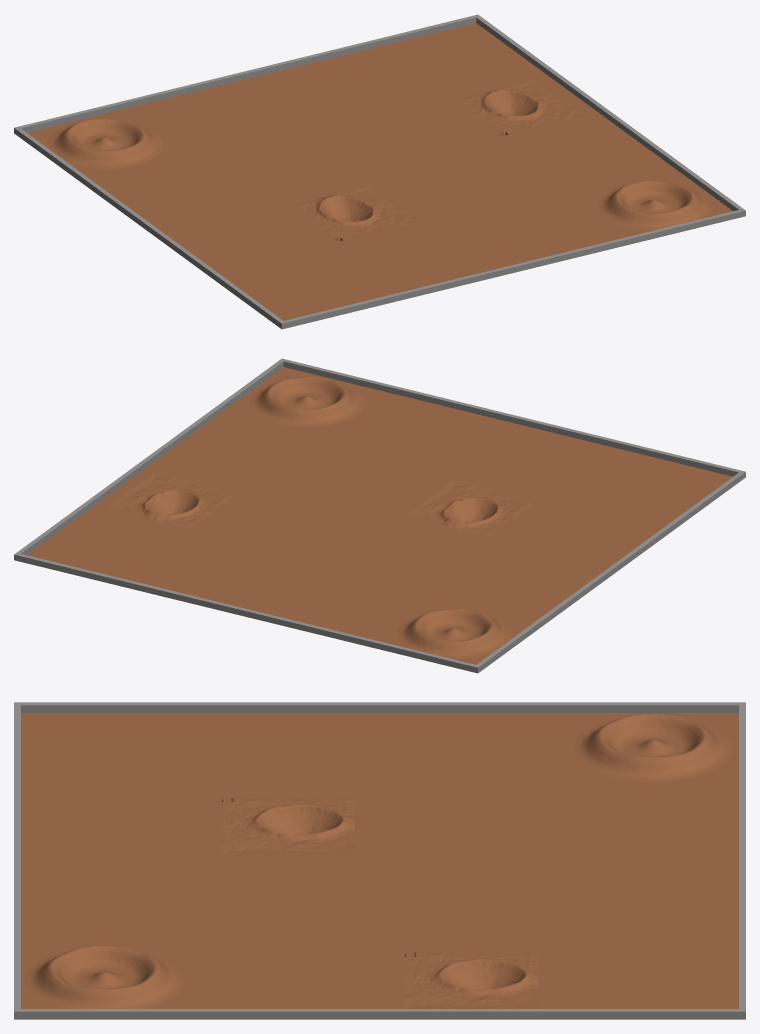
Rendered from mars_terrain.glb.
The picture shows the model from 3 angles, top to bottom: view 1: azimuth 30°, elevation 25°; view 2: azimuth 150°, elevation 25°; view 3: azimuth 270°, elevation 25°; orthographic projection. The views are drawn at different scales.
Visible parts, largest first — view 1: mars_terrain; view 2: mars_terrain; view 3: mars_terrain.
Part boxes in pixels (x1=…): mars_terrain: x1=14, y1=14, x2=745, y2=329; mars_terrain: x1=14, y1=358, x2=745, y2=673; mars_terrain: x1=14, y1=702, x2=745, y2=1019.
Bounding box in the file's own units: 12.8 × 0.5432 × 12.8.
